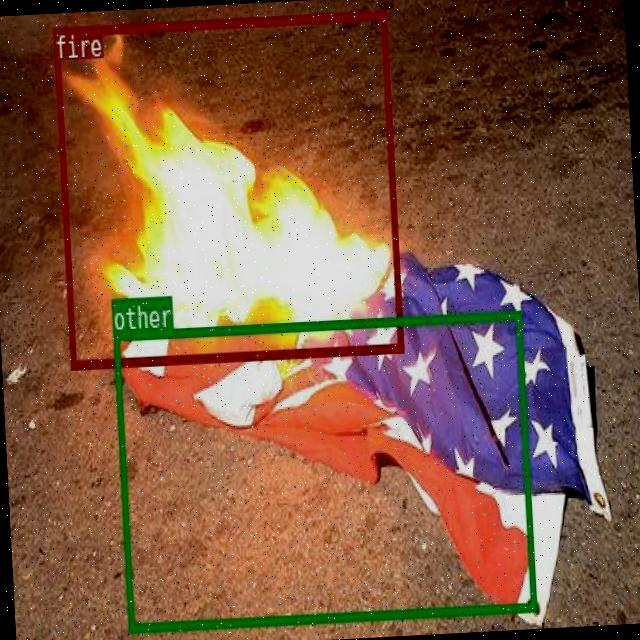fire: (52, 10, 402, 368)
